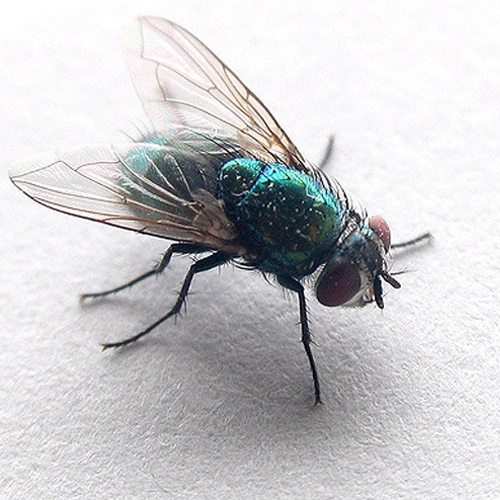green bottles fly: (6, 5, 458, 416)
